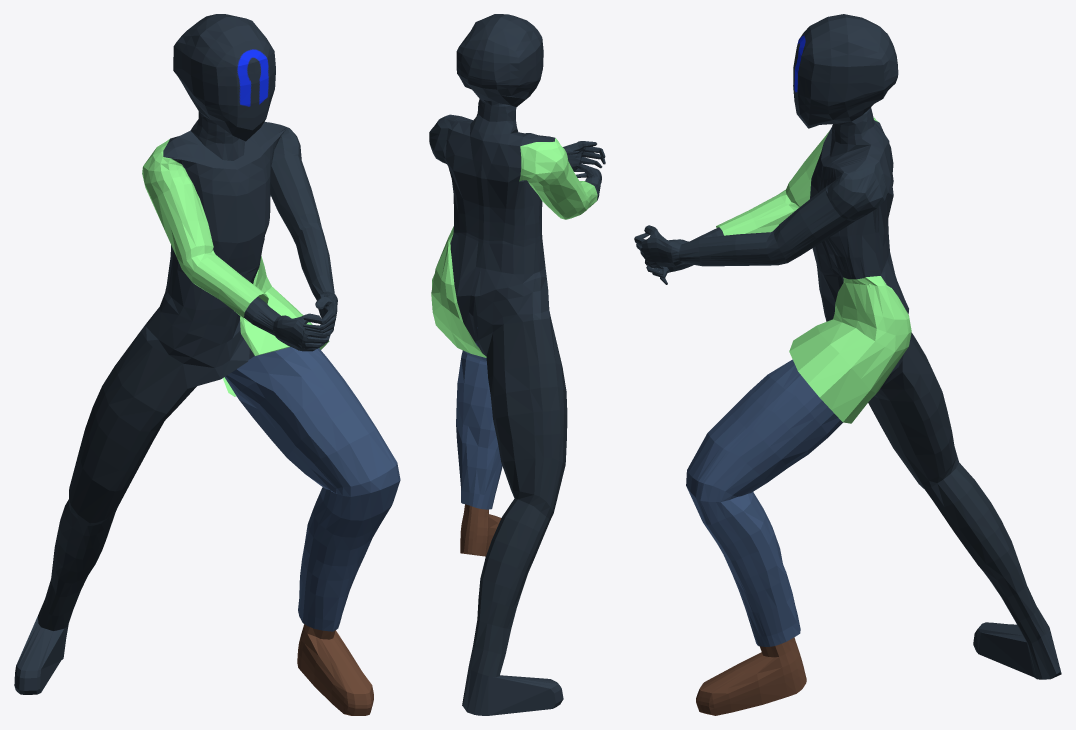
The model's file is Mar_WR_000023.obj.
The picture shows the model from 3 angles, left to right: view 1: azimuth 30°, elevation 25°; view 2: azimuth 150°, elevation 25°; view 3: azimuth 270°, elevation 25°; orthographic projection. The views are drawn at different scales.
Visible parts, largest first — view 1: Cube.000_Cube.001; view 2: Cube.000_Cube.001; view 3: Cube.000_Cube.001.
Part boxes in pixels (x1=…): Cube.000_Cube.001: x1=14, y1=14, x2=400, y2=715; Cube.000_Cube.001: x1=429, y1=14, x2=605, y2=715; Cube.000_Cube.001: x1=634, y1=14, x2=1061, y2=715.
Bounding box in the file's own units: 1.35 × 3.71 × 2.07.
